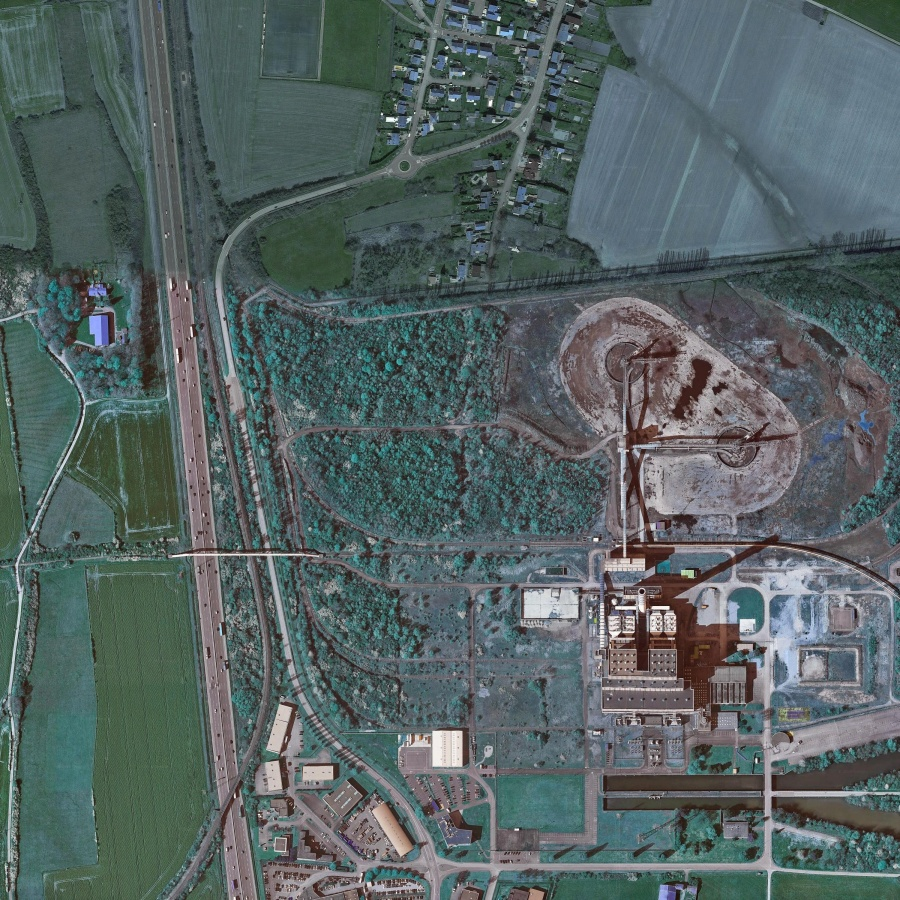PowerPlant: (527, 297, 800, 723)
